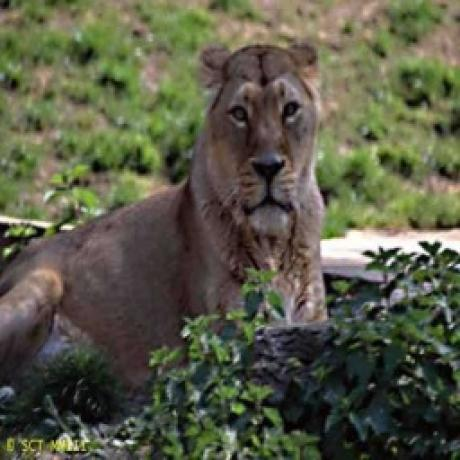Lion: (2, 35, 332, 387)
